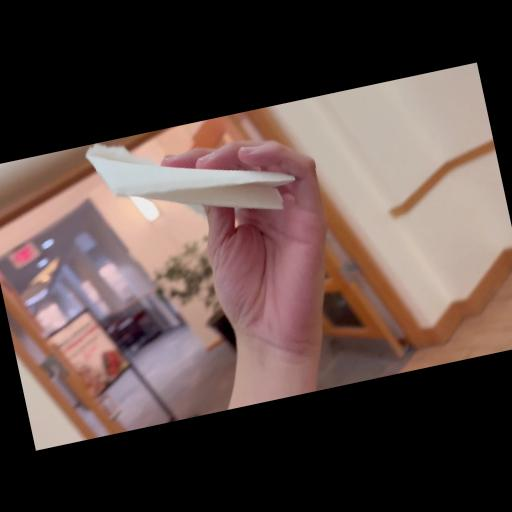napkin: (72, 98, 329, 260)
